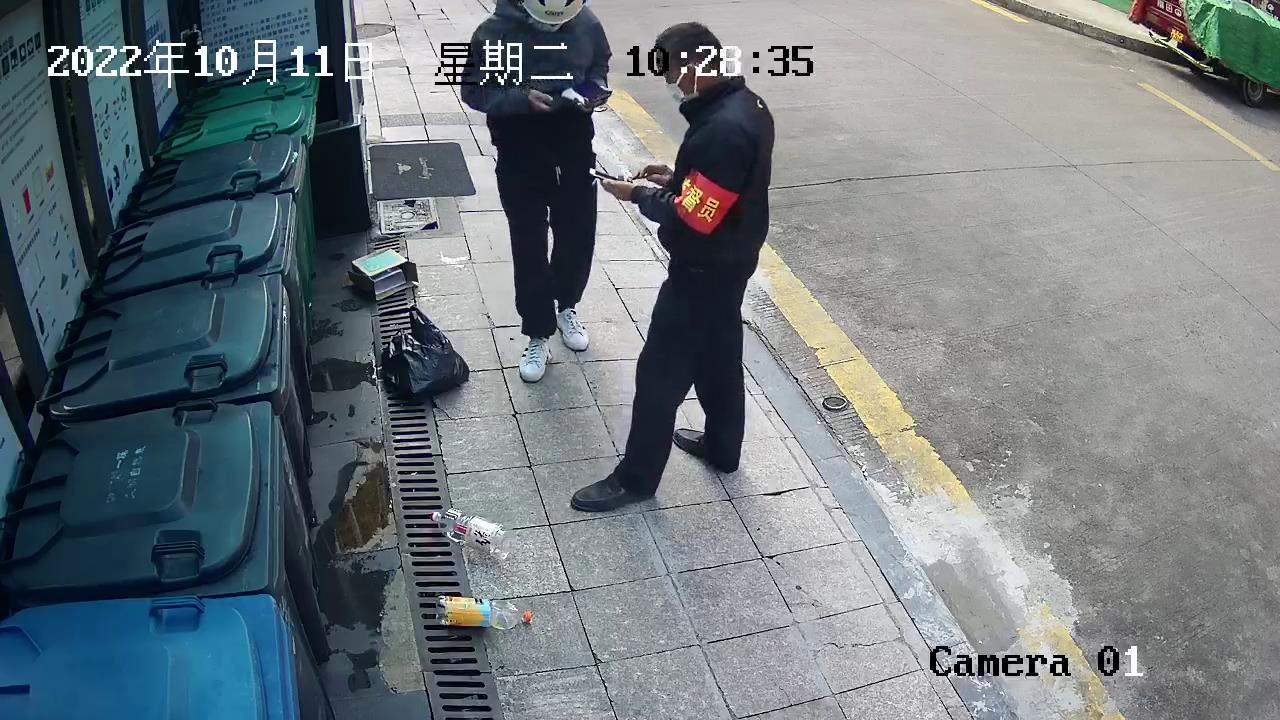garbage-bag: (369, 301, 477, 406)
person: (457, 1, 620, 386)
suliaozhipin: (424, 505, 519, 568), (431, 590, 538, 635)
worker: (563, 18, 783, 517)
zhizhipin: (341, 240, 424, 305)
